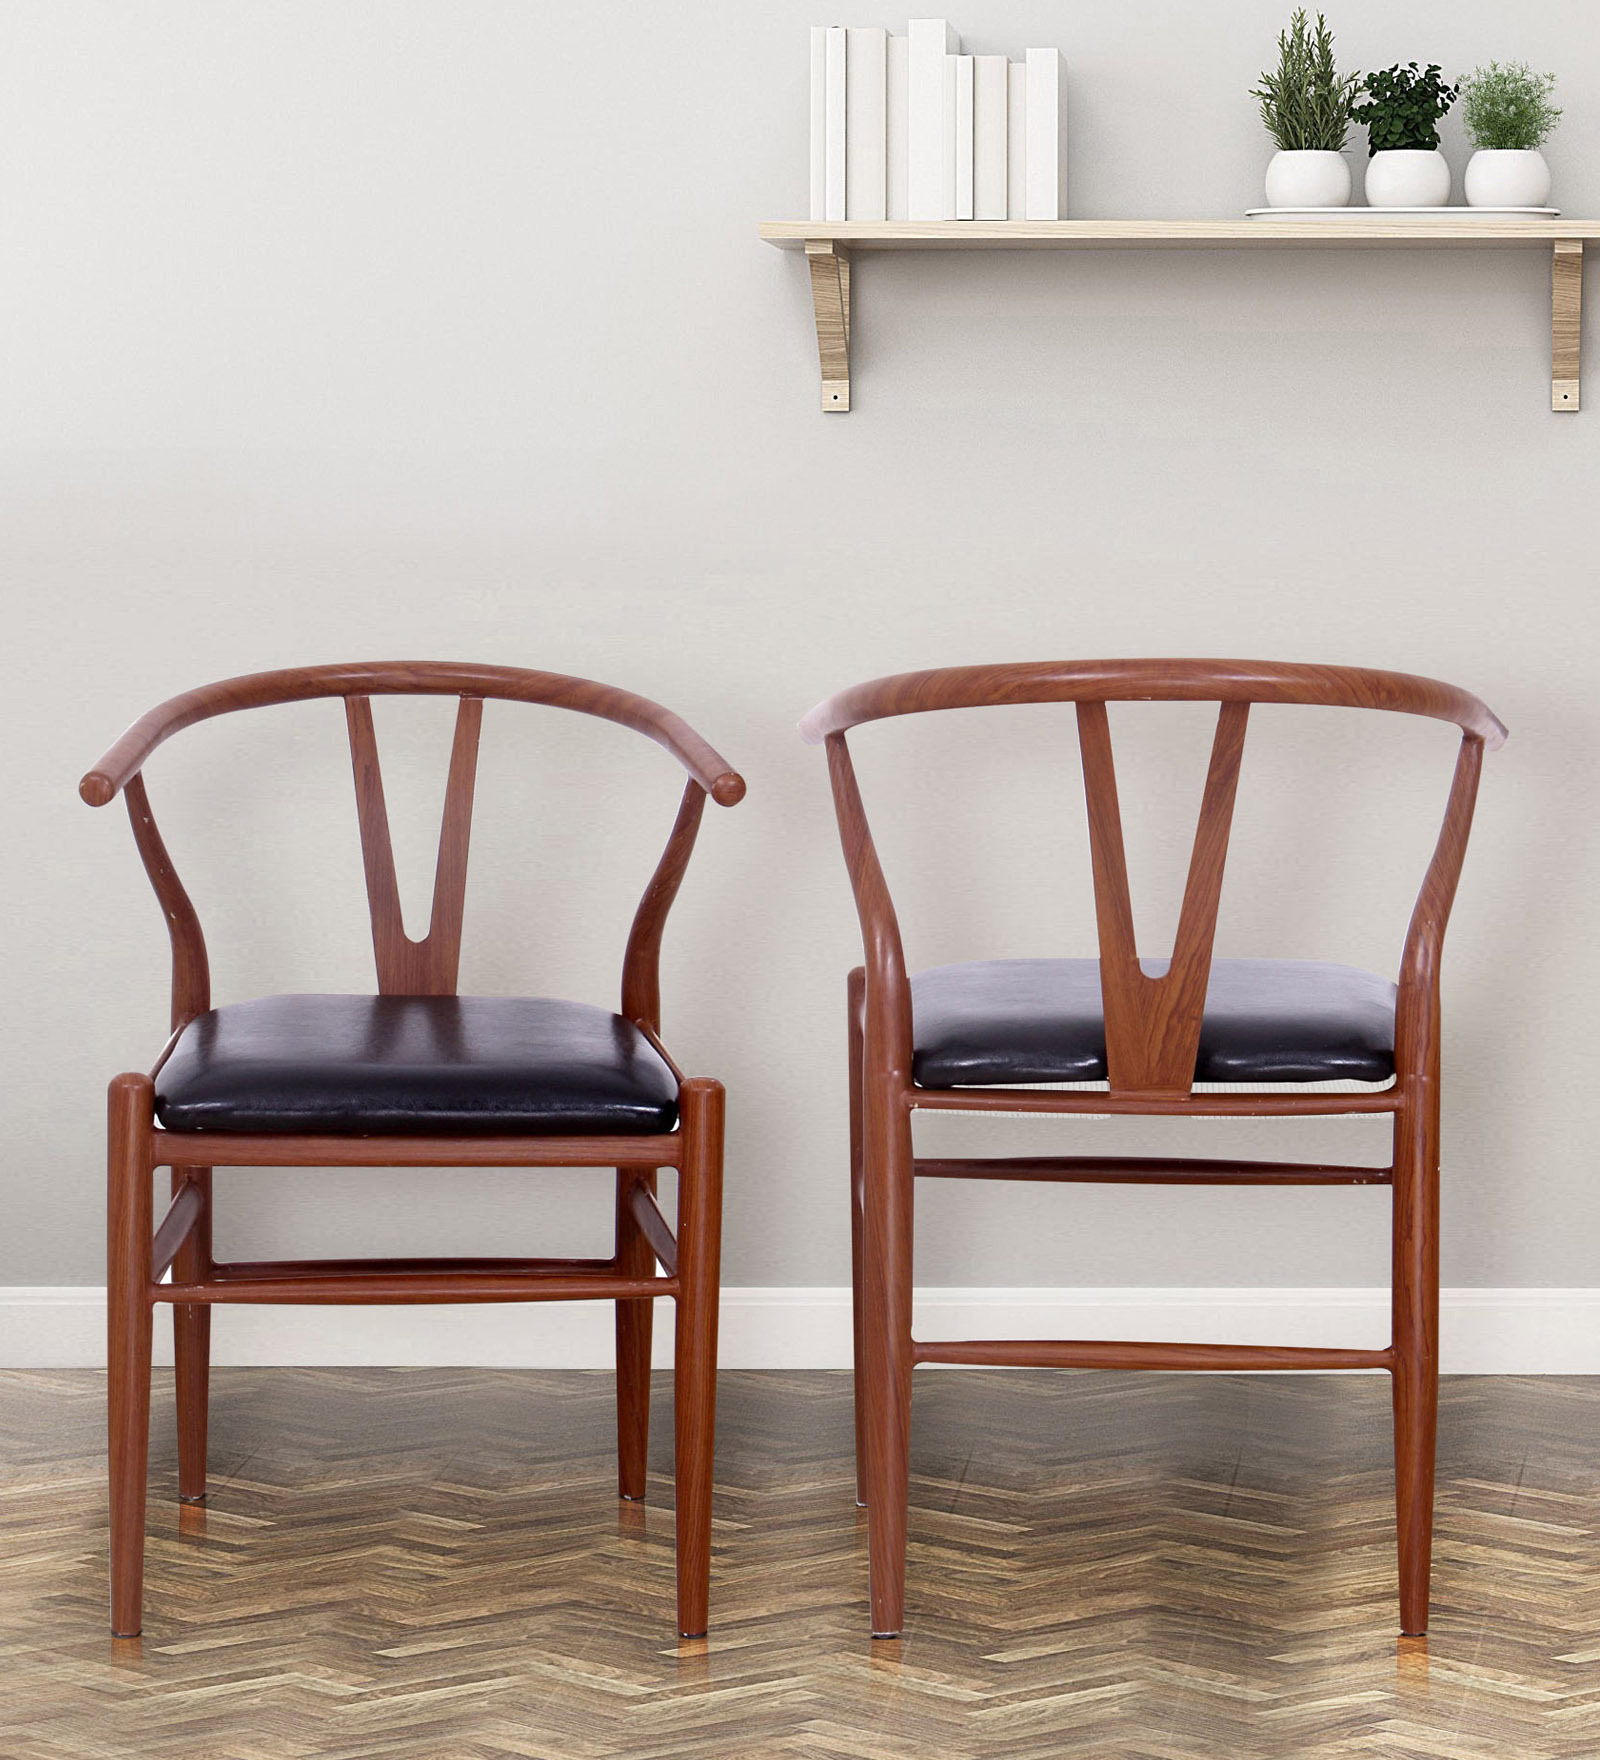Palo Metal Chair (Set of 2) in Walnut Finish by Bohemiana: (31, 570, 762, 1671), (811, 564, 1517, 1668)
